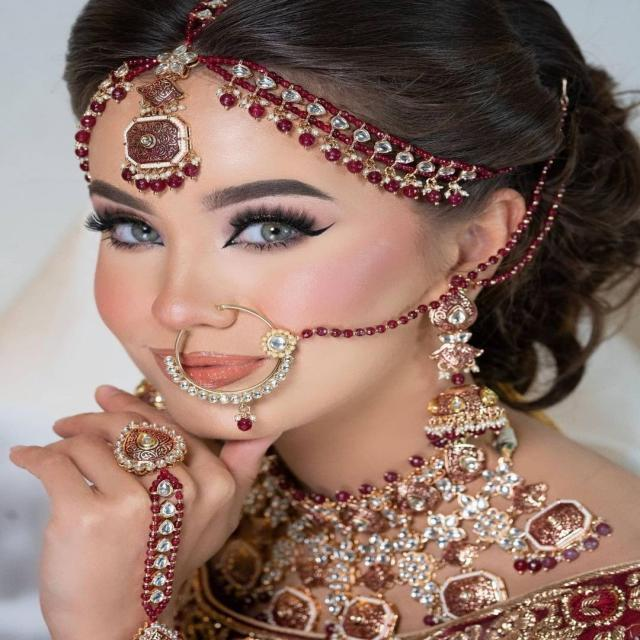Earring: (411, 288, 522, 496)
